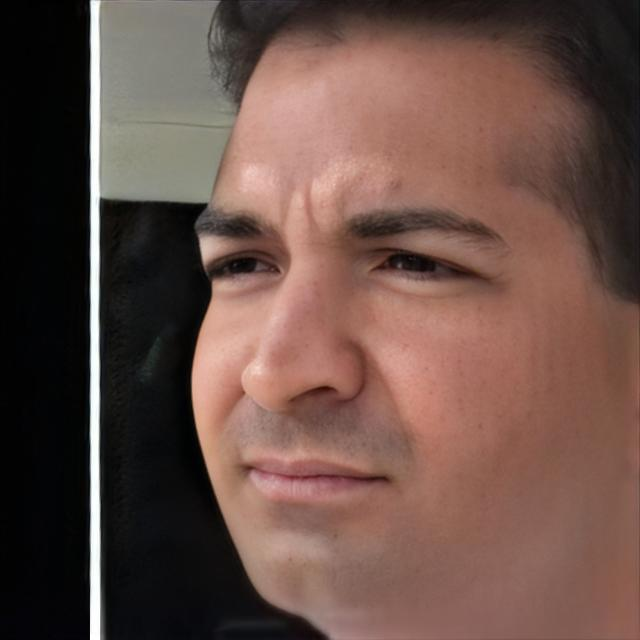disgust: (189, 16, 640, 618)
